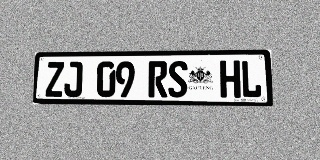0: (96, 61, 115, 97)
9: (116, 61, 135, 97)
H: (220, 60, 240, 98)
J: (64, 62, 83, 97)
L: (241, 60, 262, 98)
R: (148, 61, 167, 97)
S: (168, 61, 188, 97)
Z: (45, 62, 64, 97)
